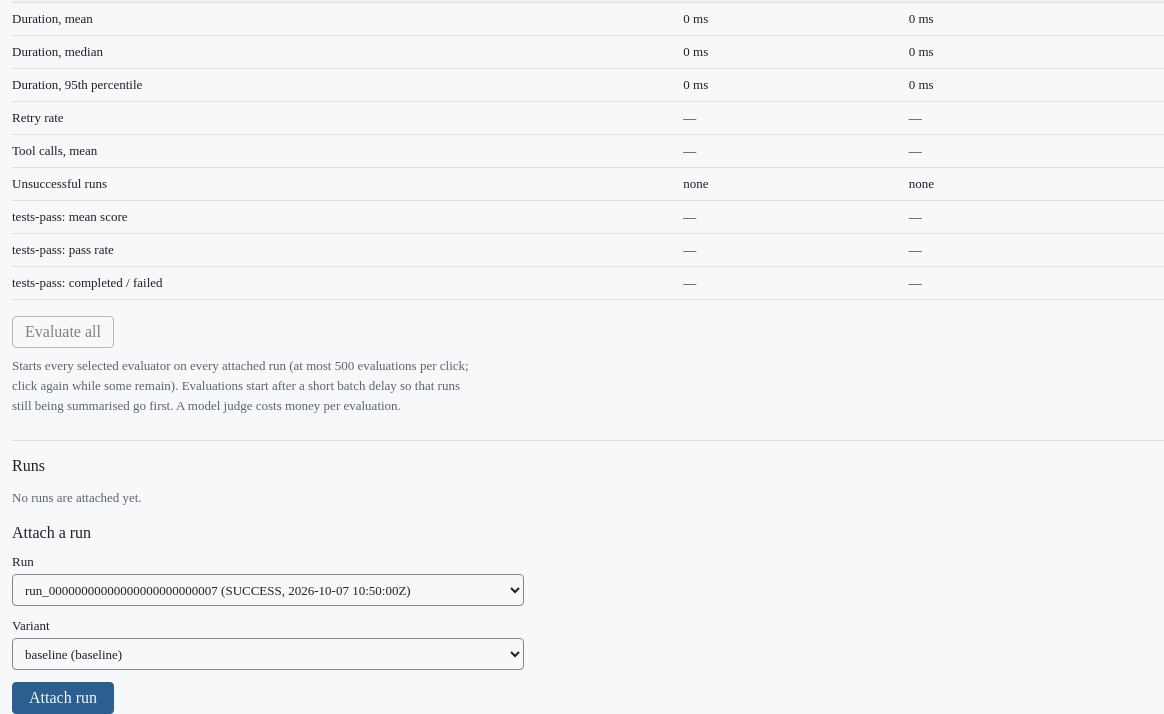
Test: Experiment detail › shows the API's refusal to attach a run as text
(page scrolled)
Click the button "Attach run": (63,698) left=12, top=682, right=114, bottom=713
(page scrolled)
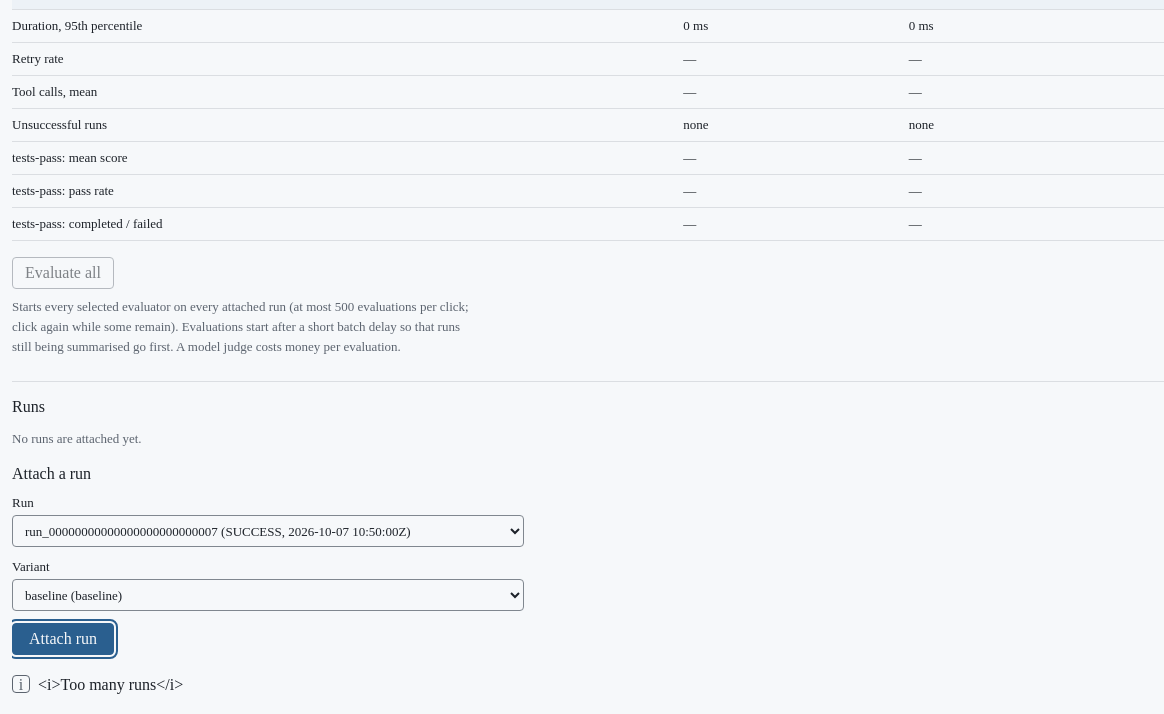
Expected: the message reads "<i>Too many runs</i>", left=38, top=676, right=183, bottom=693
